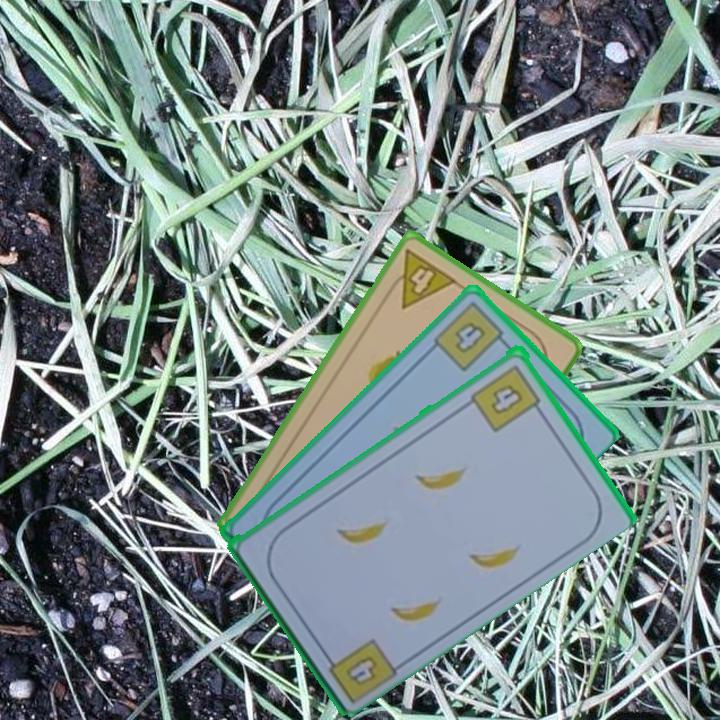4b: (429, 298, 512, 374), (467, 361, 546, 435), (318, 634, 400, 705)
4p: (380, 245, 460, 312)
